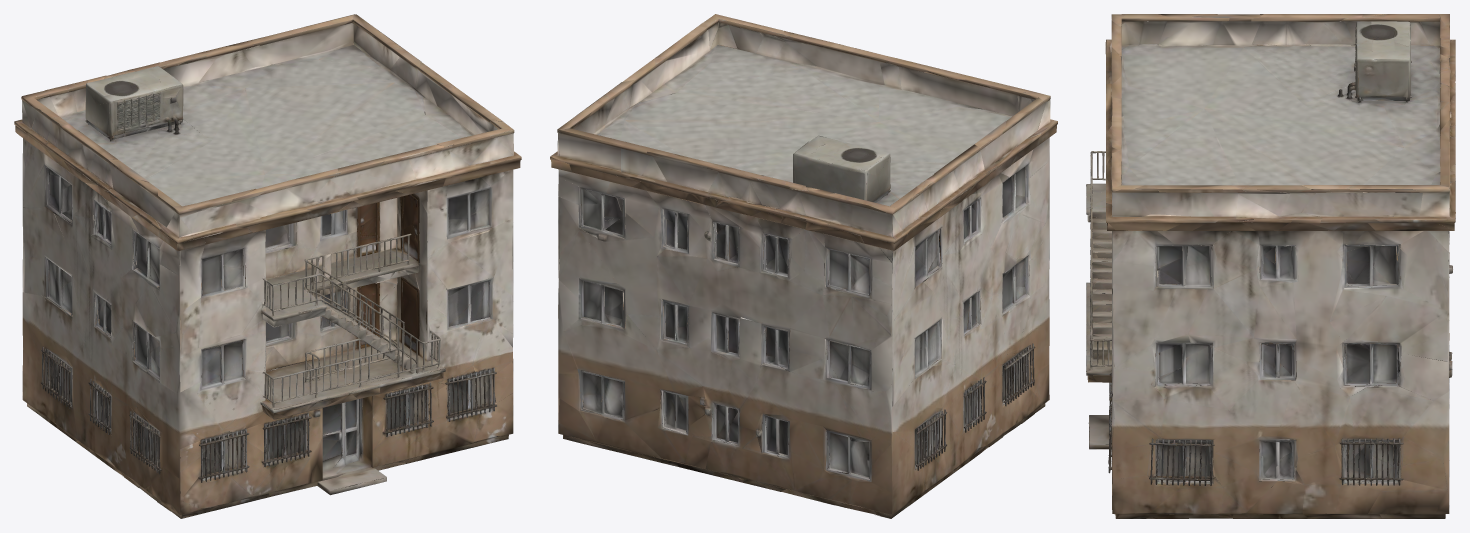
The model's file is apt-01-stucco.glb.
3 renders of one model, left to right at view 1: azimuth 30°, elevation 25°; view 2: azimuth 150°, elevation 25°; view 3: azimuth 270°, elevation 25°, orthographic. The views are drawn at different scales.
Visible parts, largest first — view 1: geometry_0; view 2: geometry_0; view 3: geometry_0.
Part boxes in pixels (left/top/right/bottom): geometry_0: left=14, top=14, right=521, bottom=518; geometry_0: left=550, top=14, right=1057, bottom=518; geometry_0: left=1086, top=14, right=1455, bottom=518.
Size of the model in its own units: 1.9 by 1.72 by 1.65.
1 material, 1 textured.
